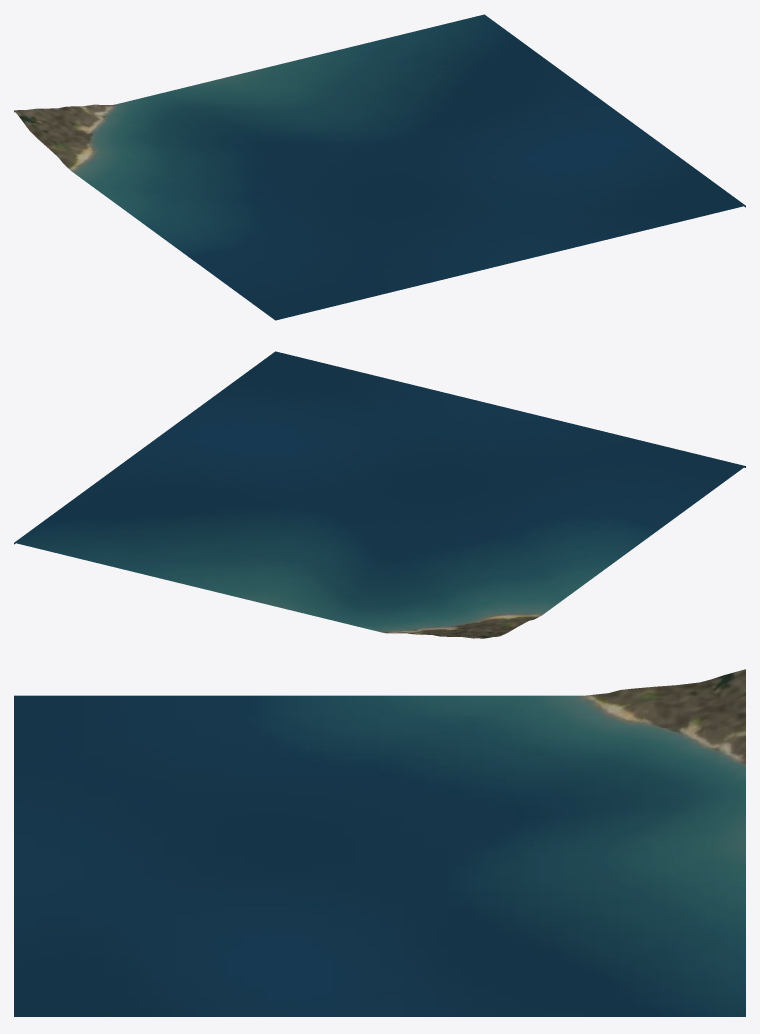
3 renders of one model, top to bottom at view 1: azimuth 30°, elevation 25°; view 2: azimuth 150°, elevation 25°; view 3: azimuth 270°, elevation 25°, orthographic. The views are drawn at different scales.
Bounding box in the file's own units: 250 × 10.62 × 241.
Materials: 1 (1 with a texture image).
